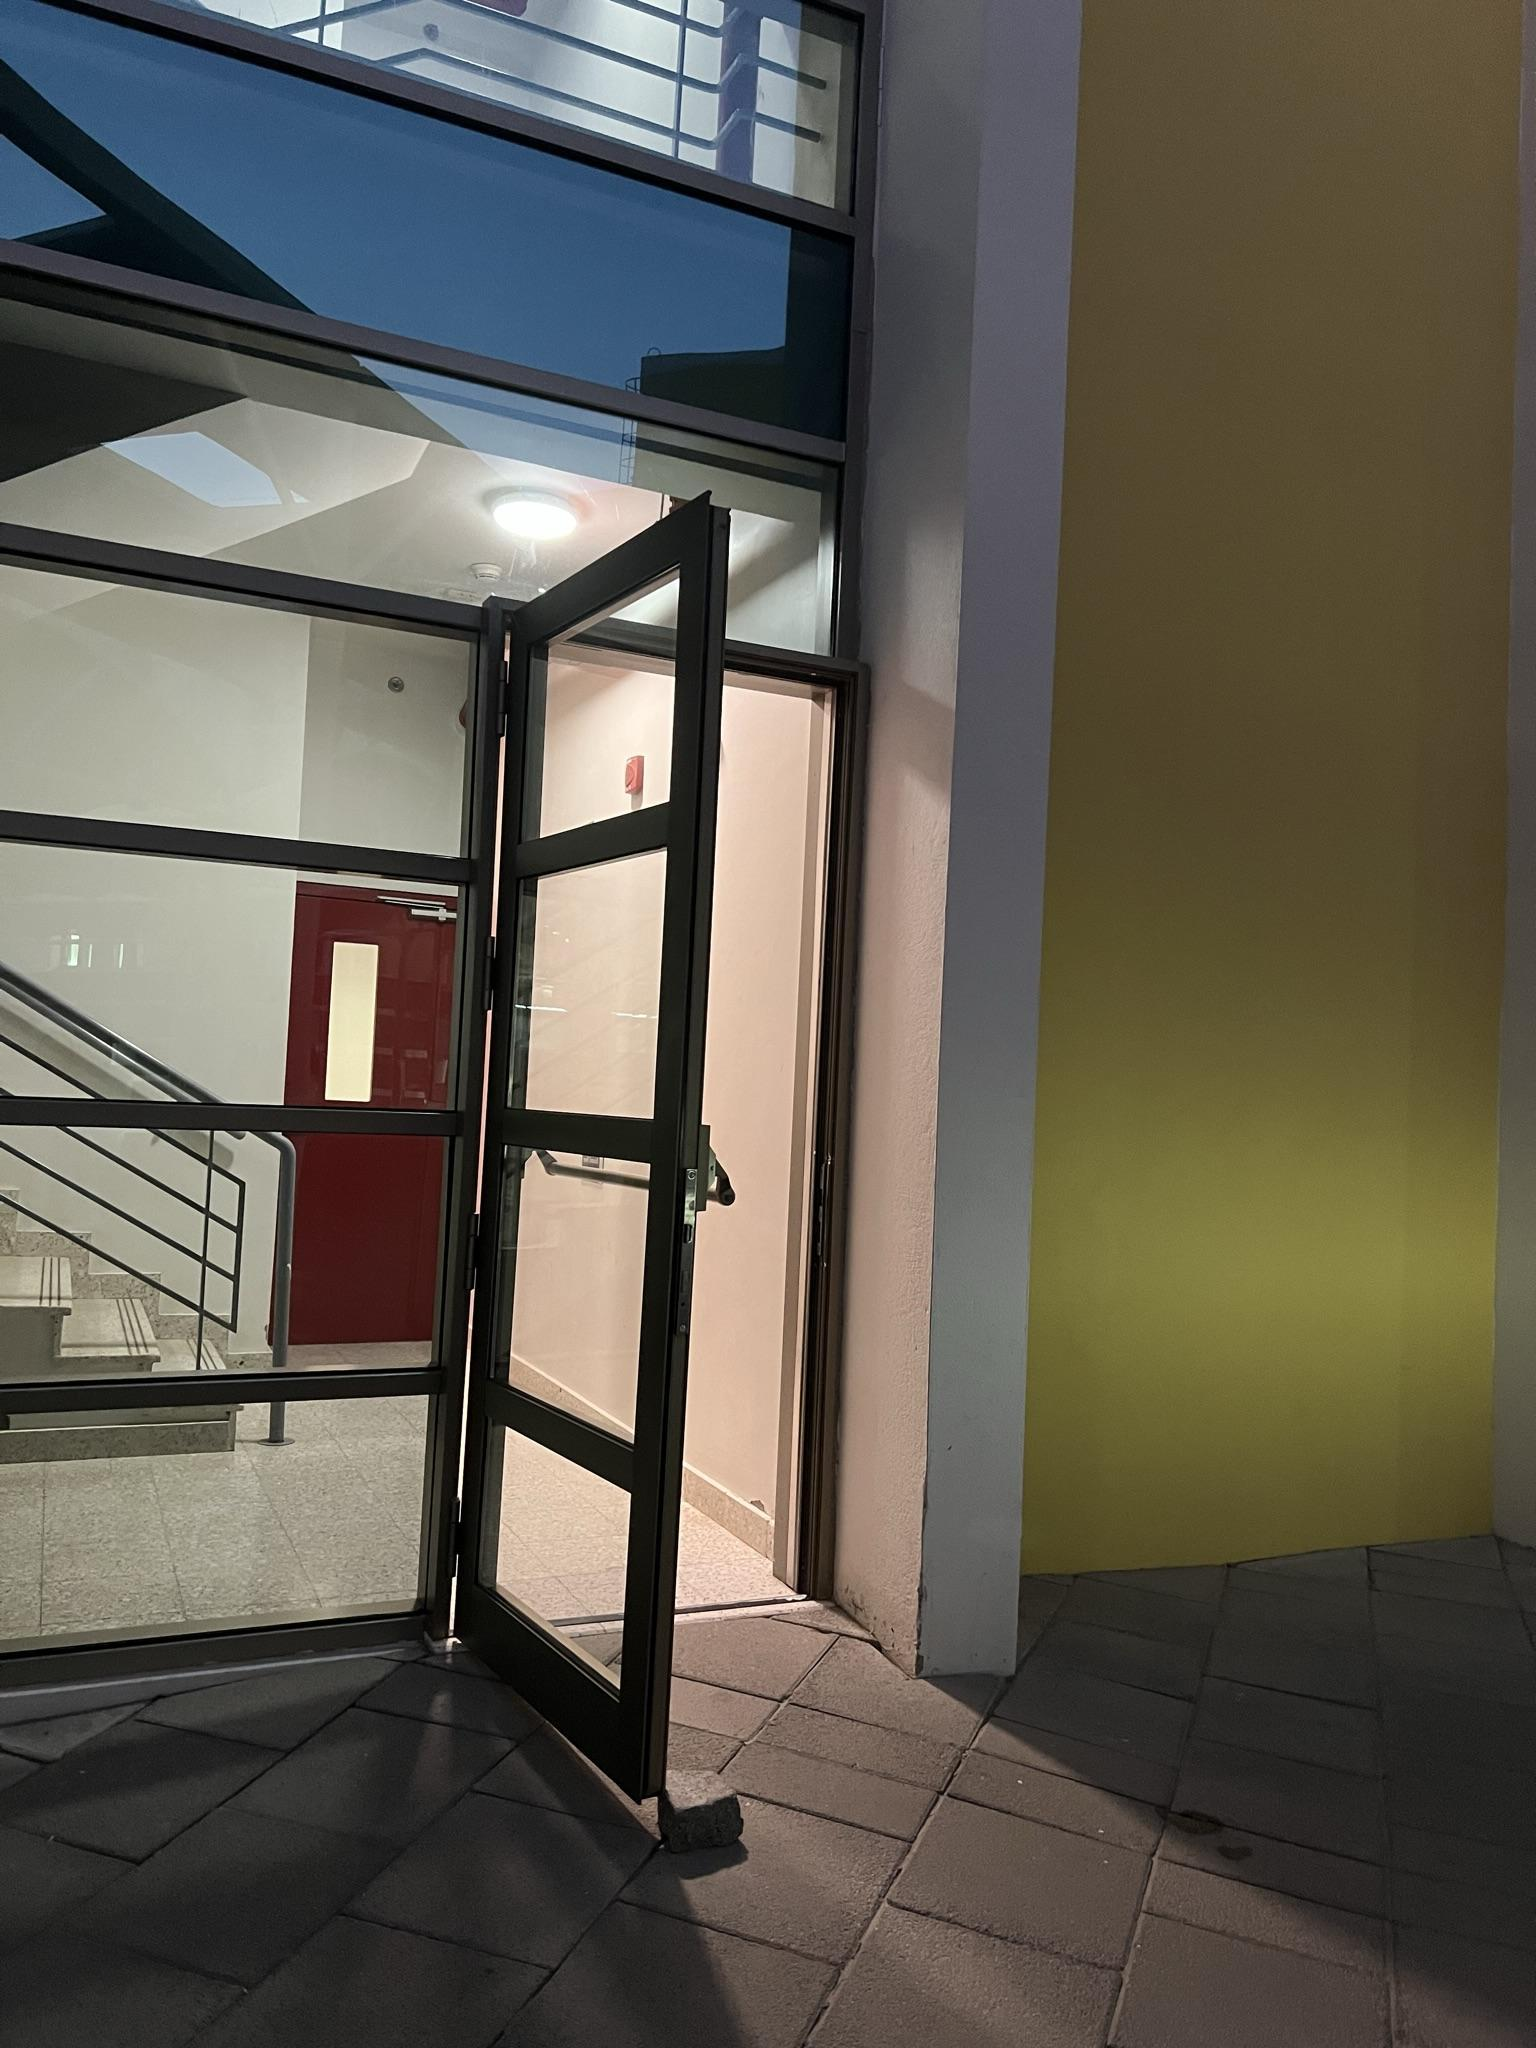door: (466, 497, 715, 1785)
